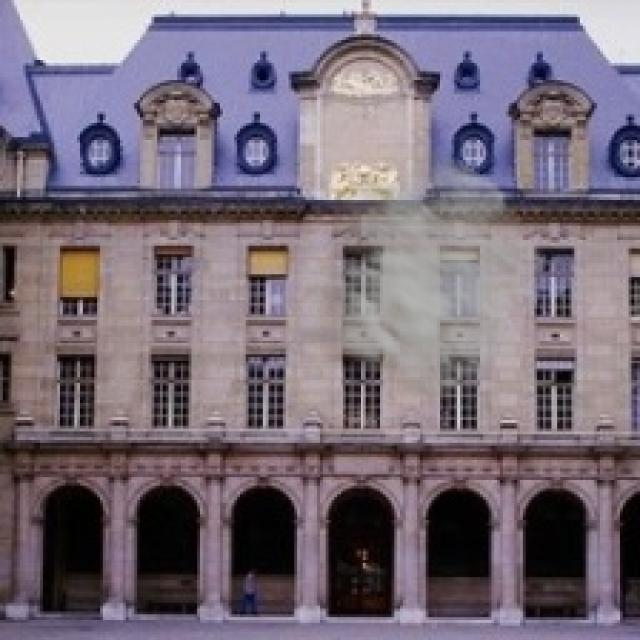smoke: (286, 143, 554, 411)
